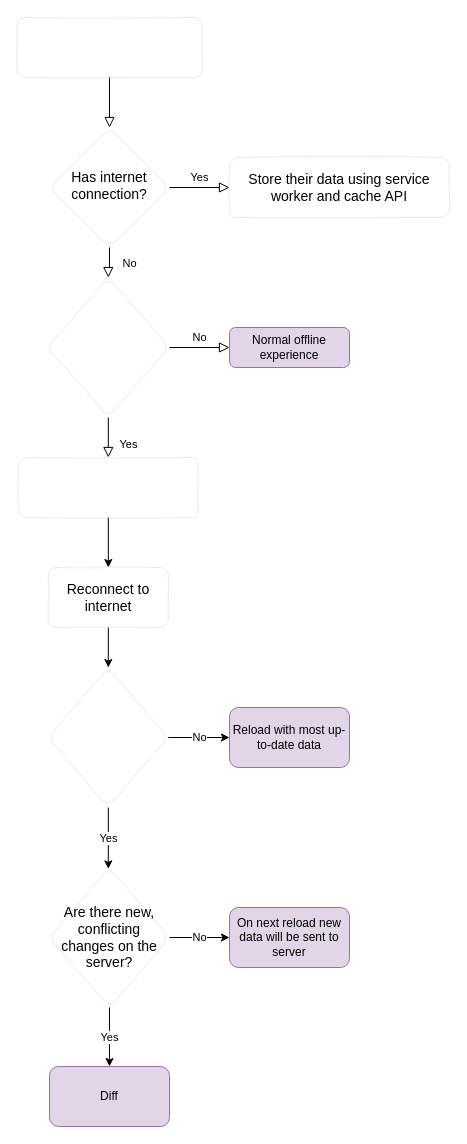
This 467x1144 diagram has some shape labels left out. The centre of each missing label's shape, as x and y in pixels:
"Did user make changes while offline?" belongs at pixel 108 737.
"Display cached files and data with ability to edit" belongs at pixel 108 487.
"Supports service workers?" belongs at pixel 107 347.
"User accesses Pistachio plugin page" belongs at pixel 109 47.
